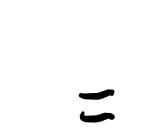eqv: (79, 89, 115, 123)
